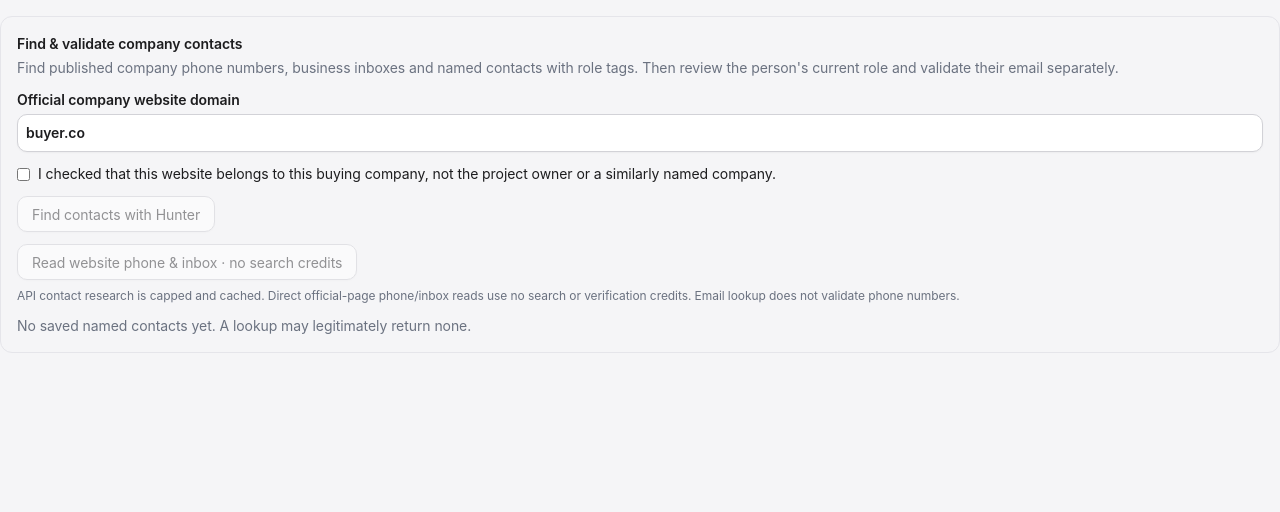
Test: contact lookup guidance › requires an explicit domain review before lookup and shows named contacts without pretending verification
Check: the button "Find contacts with Hunter" is disabled, box [17,196,215,232]
Click the checkbox at (24, 174), box [17,168,30,181]
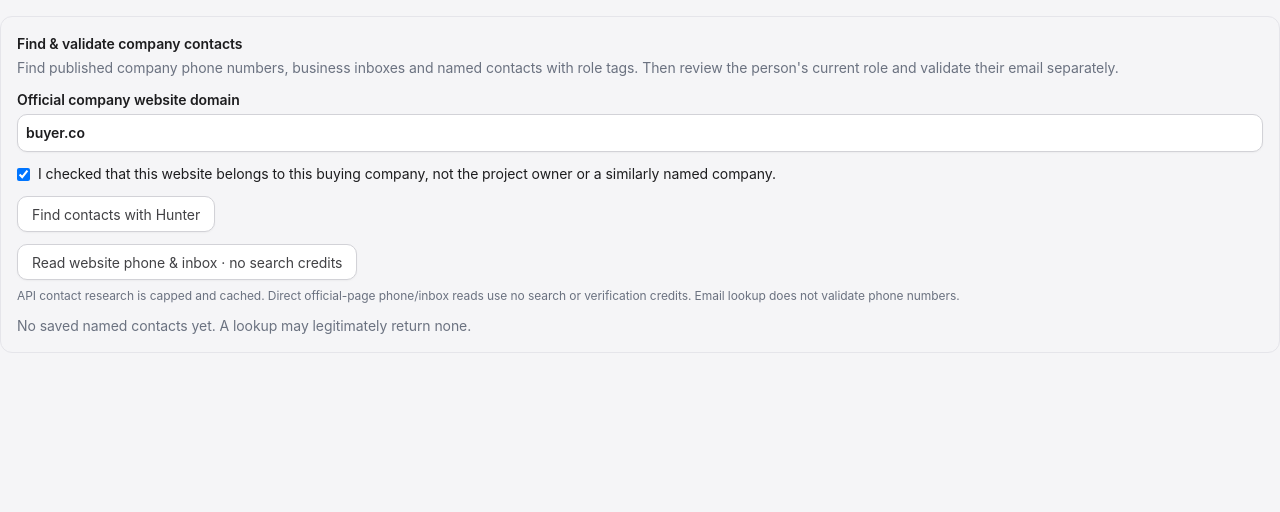
Click the button "Find contacts with Hunter" at (116, 214), box [17,196,215,232]
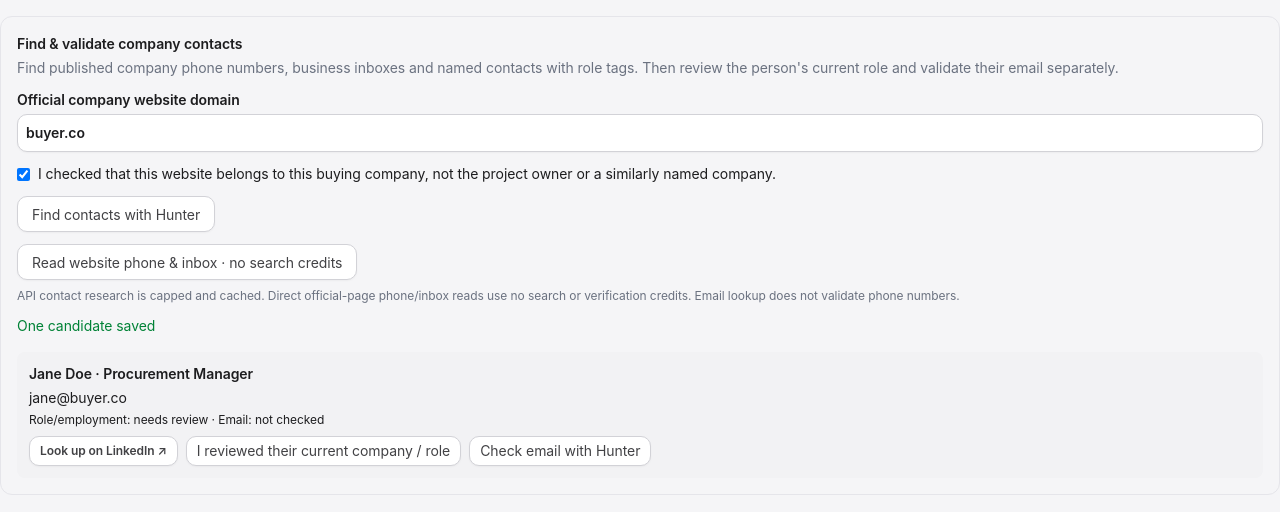
Check: the text "One candidate saved" is shown, box [17,317,155,334]
Check: the text "Role/employment: needs review · Email: not checked" is shown, box [29,412,324,427]
Check: the button "Check email with Hunter" is shown, box [469,436,651,466]
